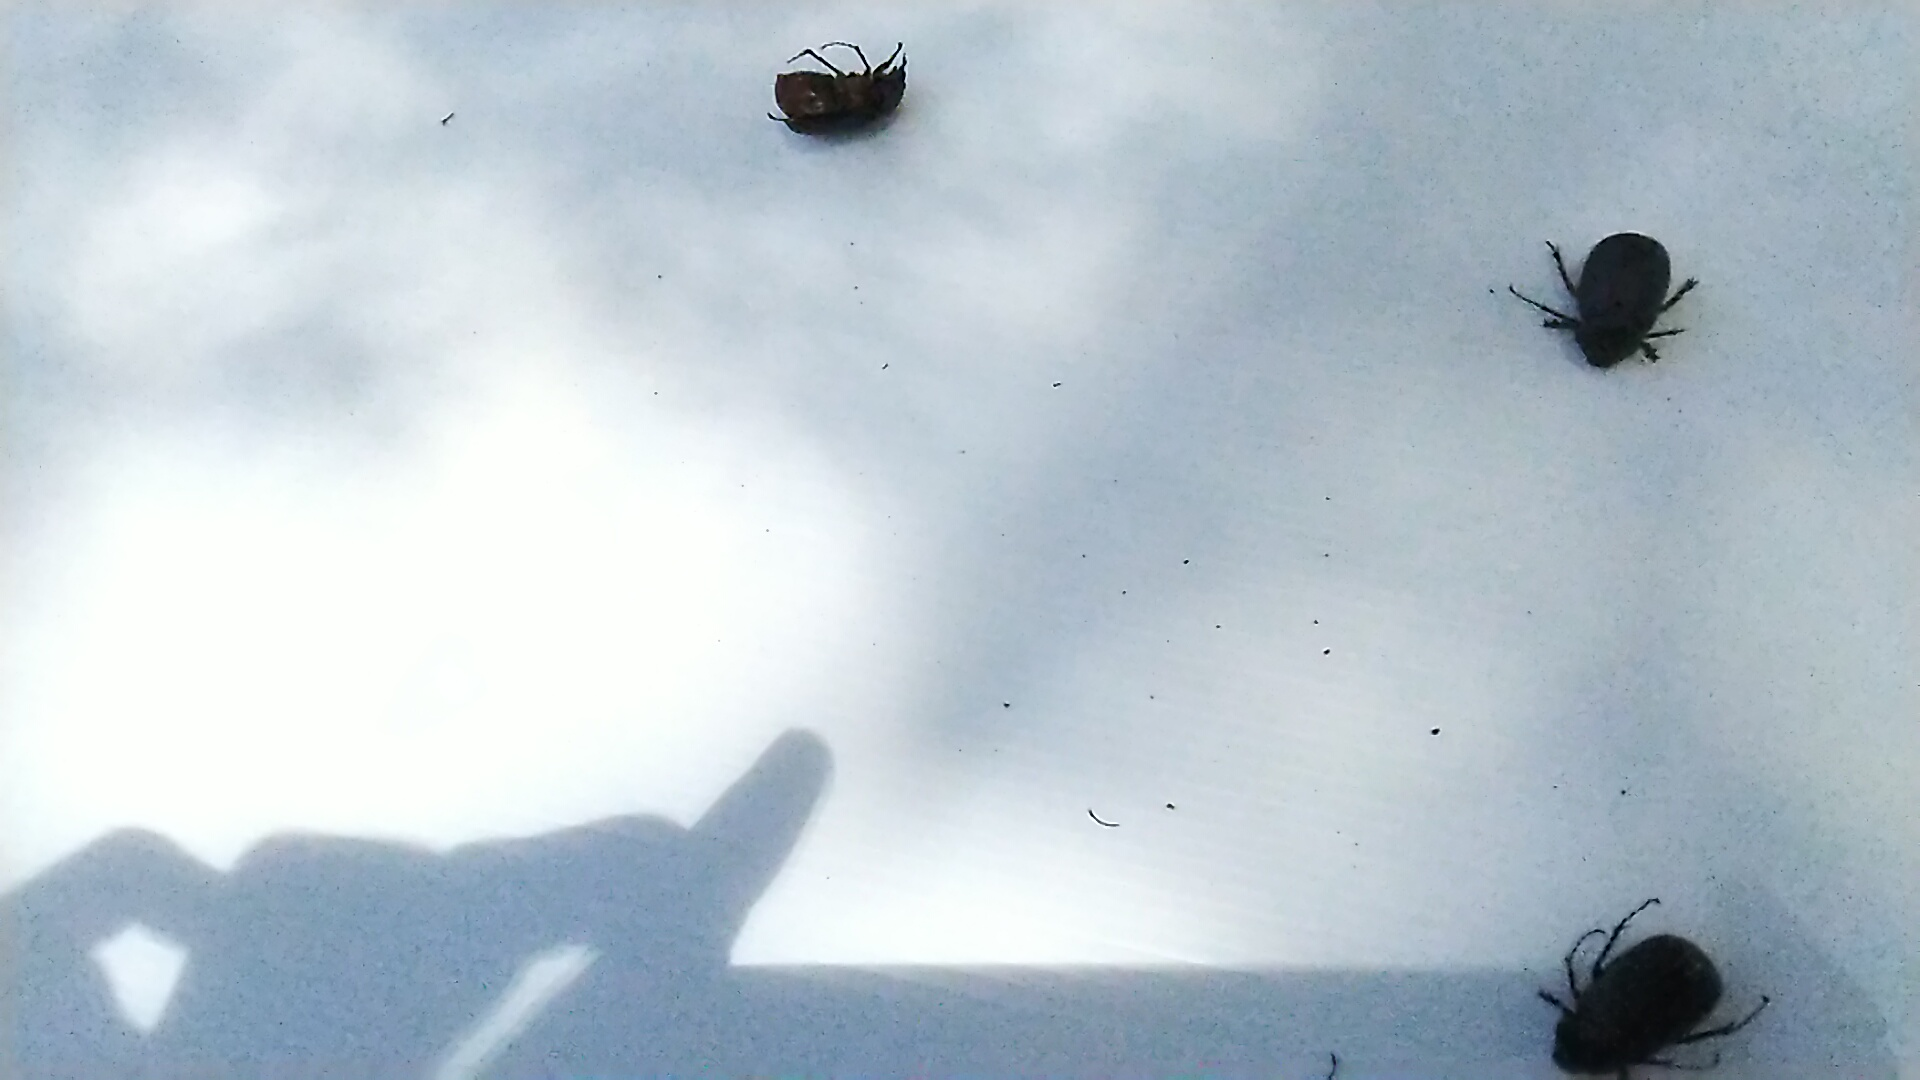INS-A: (1510, 893, 1783, 1080), (1505, 199, 1722, 405), (758, 24, 922, 157)
